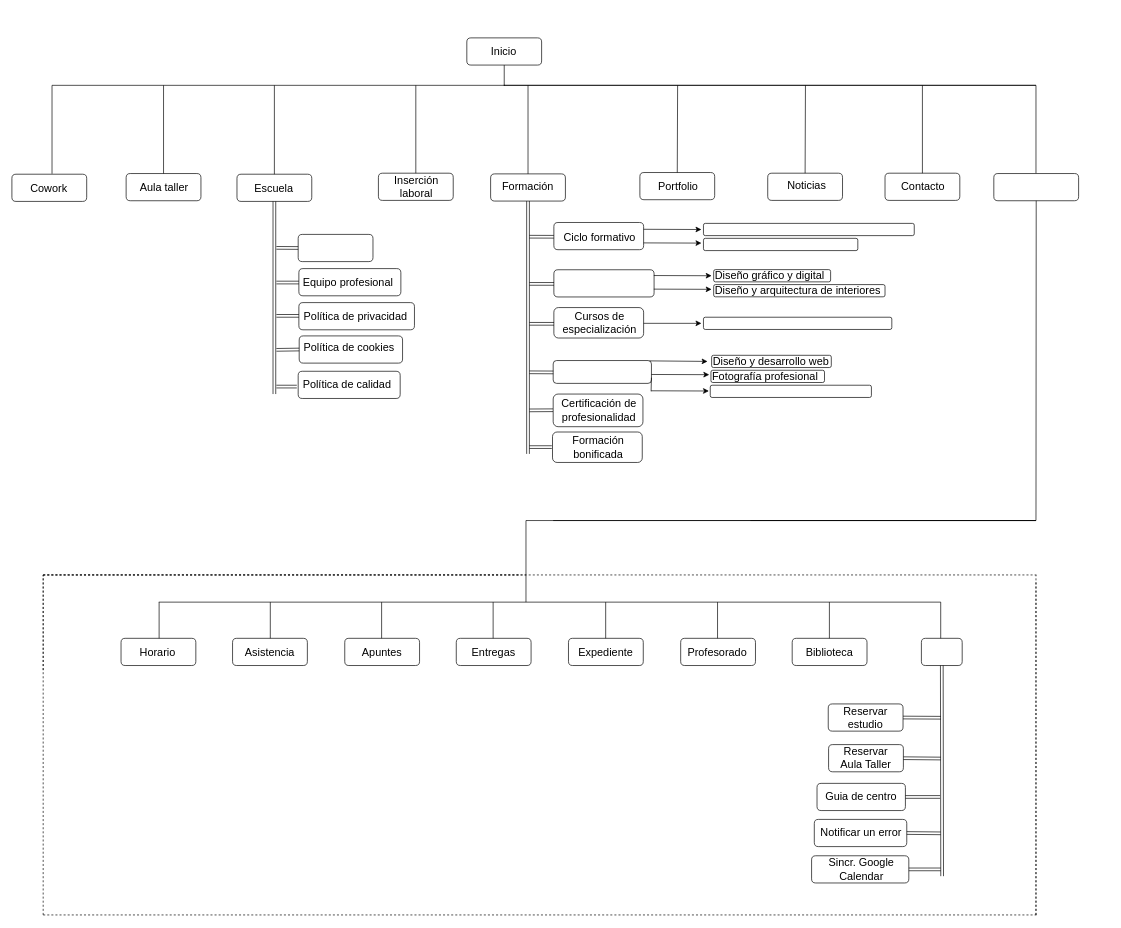
The diagram is 1121 pixels wide and 928 high, and some of its shapes have lost their labels. The centre of each missing label's shape, as x and y in pixels:
Campus virtual: point 1036,187
Carreras profesionales: point 603,283
Cursos superiores: point 601,371
Cámara y postproducción digital: point 790,391
Desarrollo en aplicaciones multiplataforma: point 808,229
Desarrollo en aplicaciones web: point 780,244
Diseño y animación de personajes 3D: point 797,323
Instalaciones: point 335,248
Más: point 941,652
